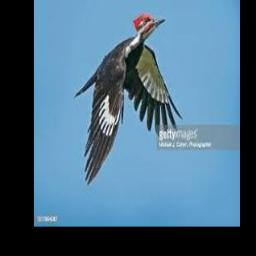Woodpecker: (74, 14, 183, 186)
